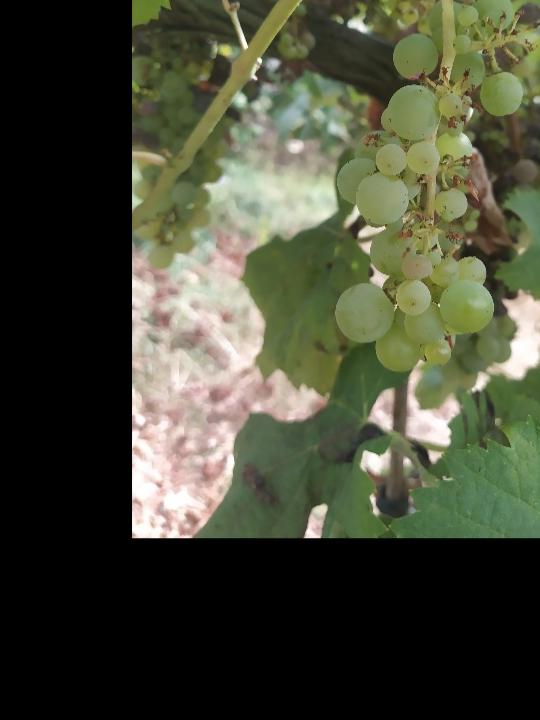grape: (332, 0, 527, 376)
